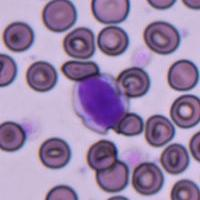L: (71, 73, 130, 132)
